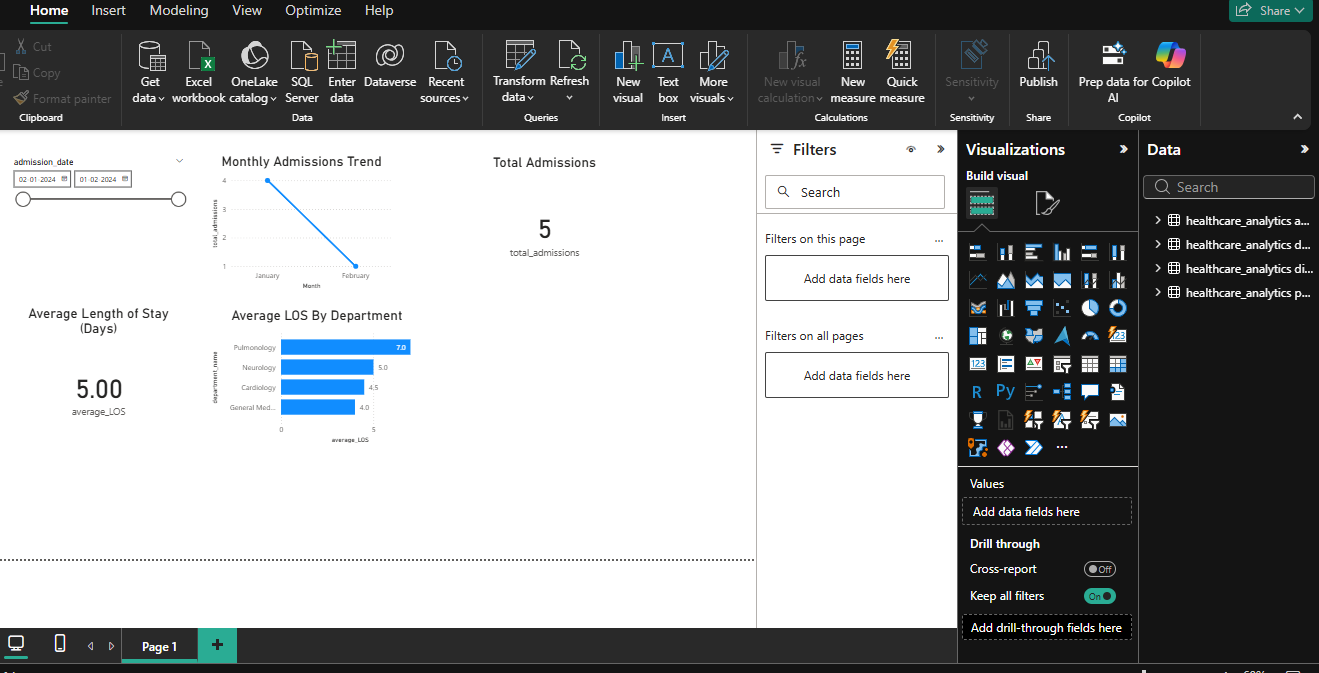

The dashboard page shown, as its layout file describes it:
{"tool":"powerbi","page":{"name":"Page 1","canvas":[1280,720],"ordinal":0},"visuals":[{"type":"card","title":"Average Length of Stay (Days)","fields":{"Values":["healthcare_analytics admissions.average_LOS"]},"box":[20.2,294,310.8,236.9],"z":0},{"type":"card","title":"Total Admissions","fields":{"Values":["healthcare_analytics admissions.total_admissions"]},"box":[769.3,40.3,310.8,236.9],"z":1000},{"type":"lineChart","title":"Monthly Admissions Trend","fields":{"Y":["healthcare_analytics admissions.total_admissions"],"Category":["healthcare_analytics admissions.admission_date.Variation.Date Hierarchy.Month"]},"box":[361.2,38.6,310.8,233.5],"z":2000},{"type":"clusteredBarChart","title":"Average LOS By Department","fields":{"Category":["healthcare_analytics departments.department_name"],"Y":["healthcare_analytics admissions.average_LOS"]},"box":[361.2,297.3,362.8,233.5],"z":3000},{"type":"slicer","fields":{"Values":["healthcare_analytics admissions.admission_date"]},"box":[20.2,40.3,310.8,231.8],"z":4000}]}

Visuals, with their boxes on the page's 1280x720 design canvas (x1, y1, x2, y2). These are canvas units, not pixel positions in the 1319x673 screenshot, which may show the page scaled, cropped or inside an application window:
"Average Length of Stay (Days)" card: (20,294,331,531)
"Total Admissions" card: (769,40,1080,277)
"Monthly Admissions Trend" lineChart: (361,39,672,272)
"Average LOS By Department" clusteredBarChart: (361,297,724,531)
slicer - healthcare_analytics admissions.admission_date: (20,40,331,272)
